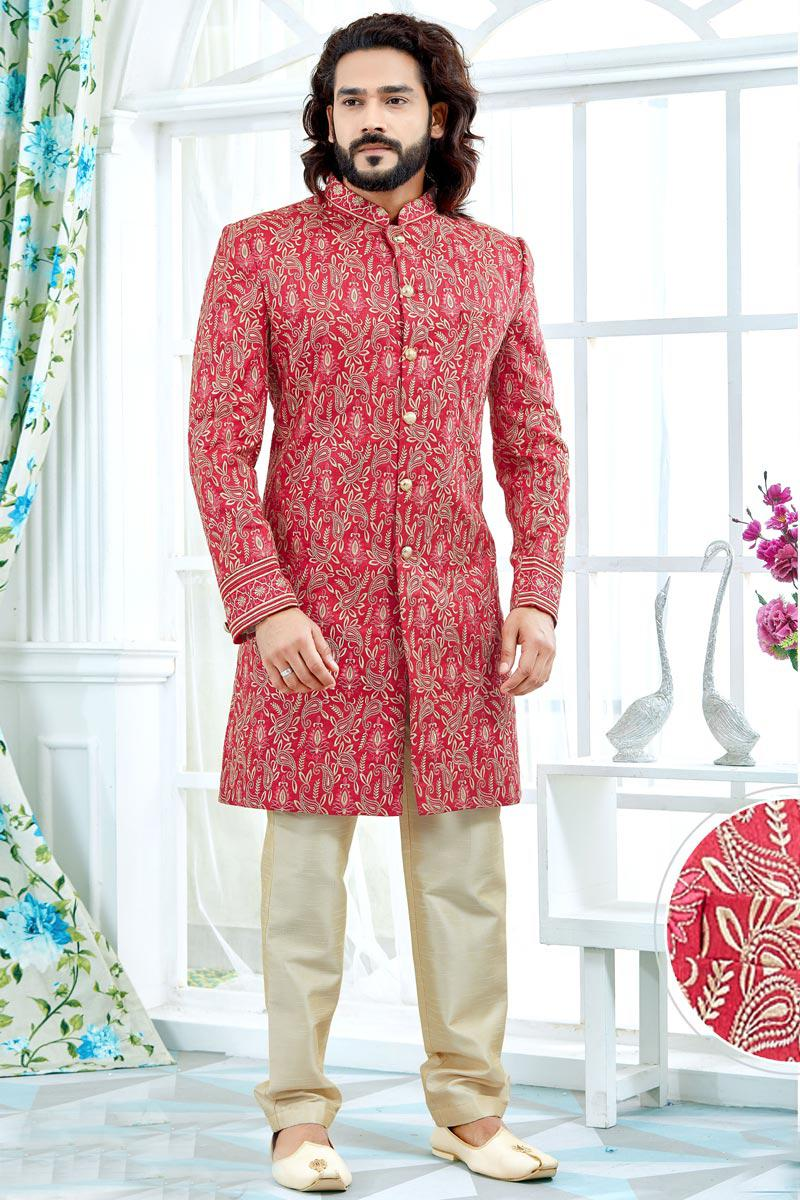Design Sherwani: (185, 186, 563, 823)
